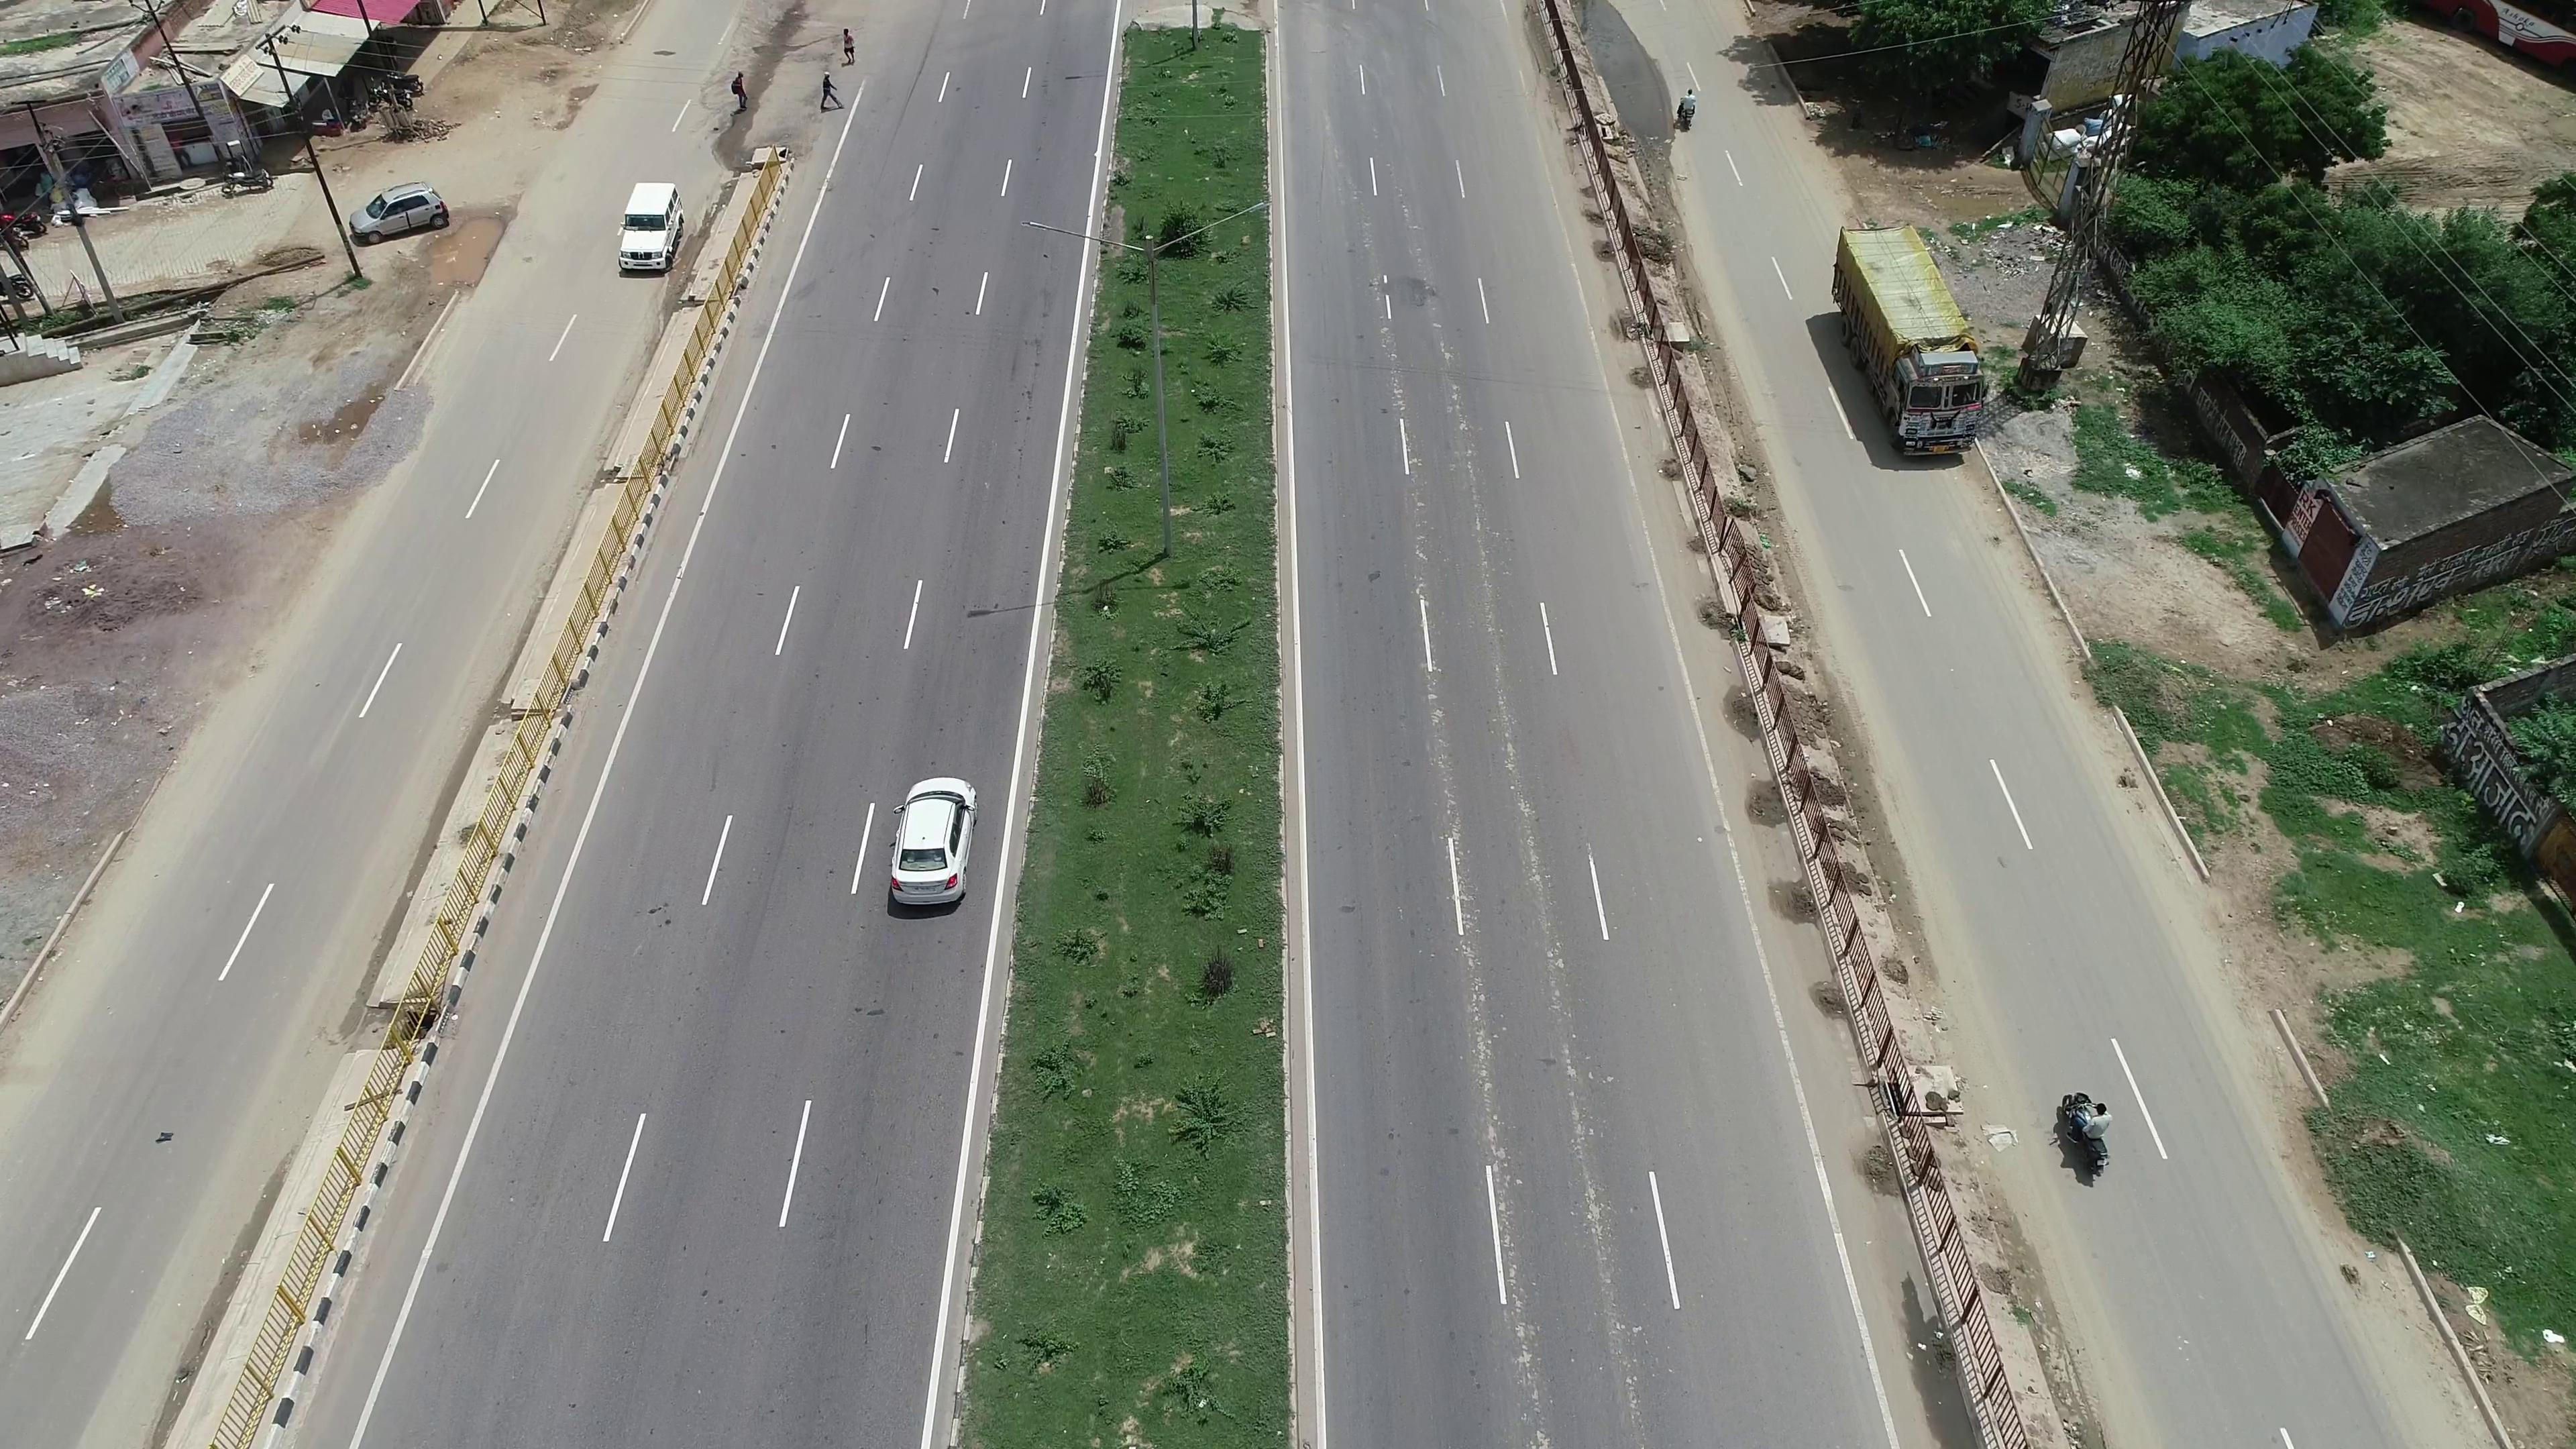Ravelling: (1568, 1095, 1647, 1424), (1486, 1161, 1555, 1440), (1444, 380, 1509, 644), (1518, 794, 1578, 1069), (1454, 932, 1500, 1127)
